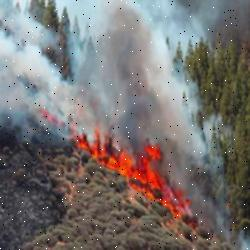fire: (75, 115, 200, 220)
